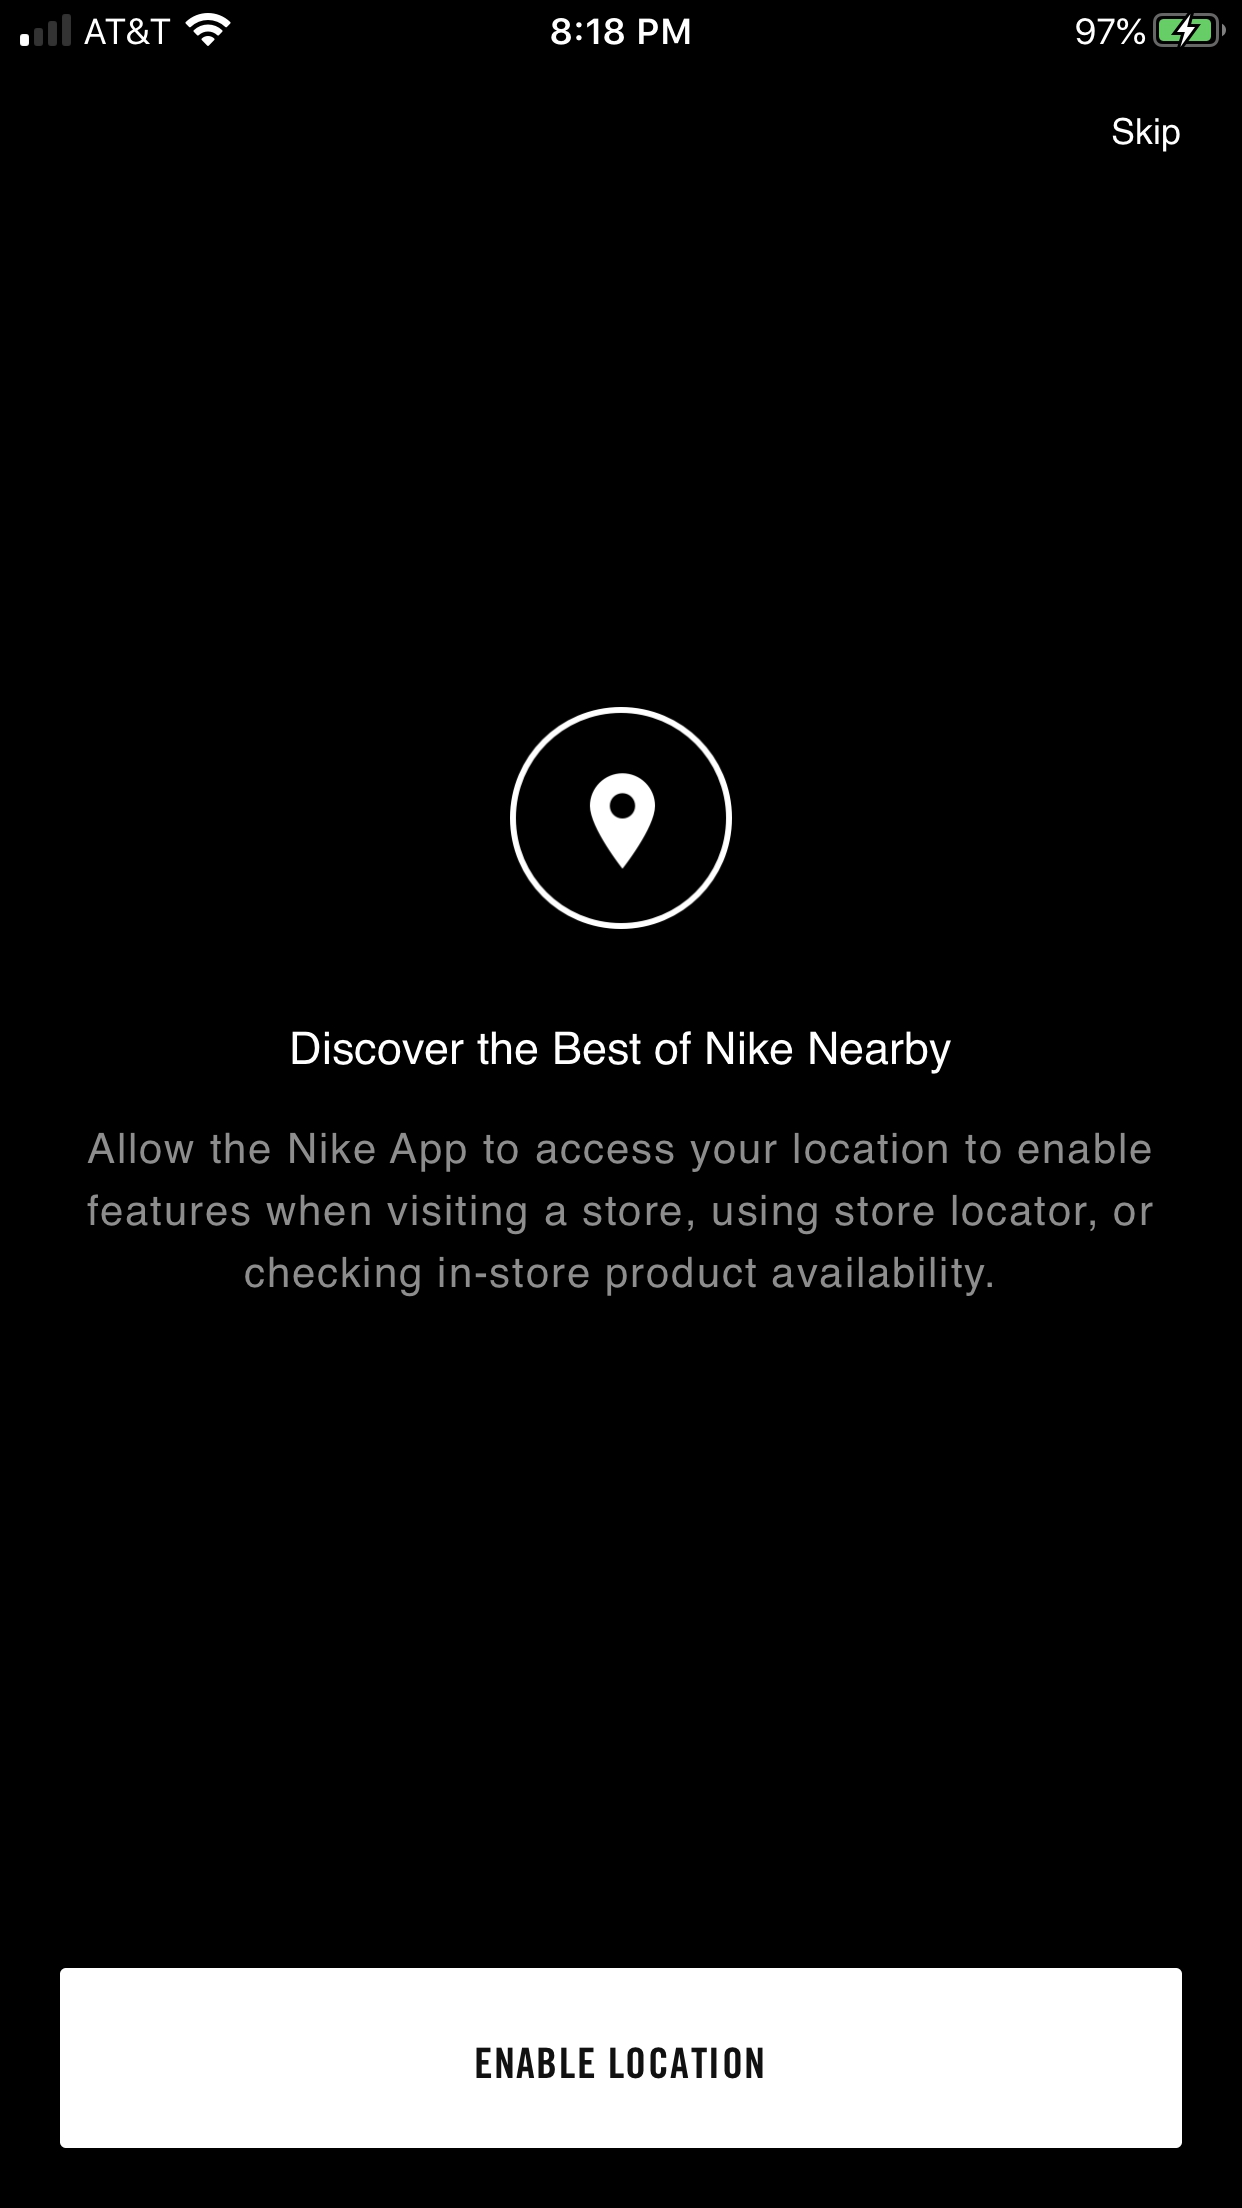Image: (510, 707, 732, 931)
Text: (86, 1133, 1154, 1298), (293, 1031, 952, 1077), (1112, 117, 1181, 153)
TextButton: (61, 1968, 1183, 2149)
UpperTaskBar: (2, 2, 1242, 49)
